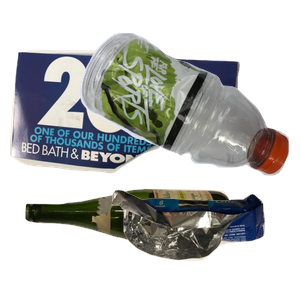glass: (23, 186, 249, 300)
paper: (10, 41, 242, 207)
plastic: (77, 30, 300, 198)
trash: (109, 187, 300, 300)
